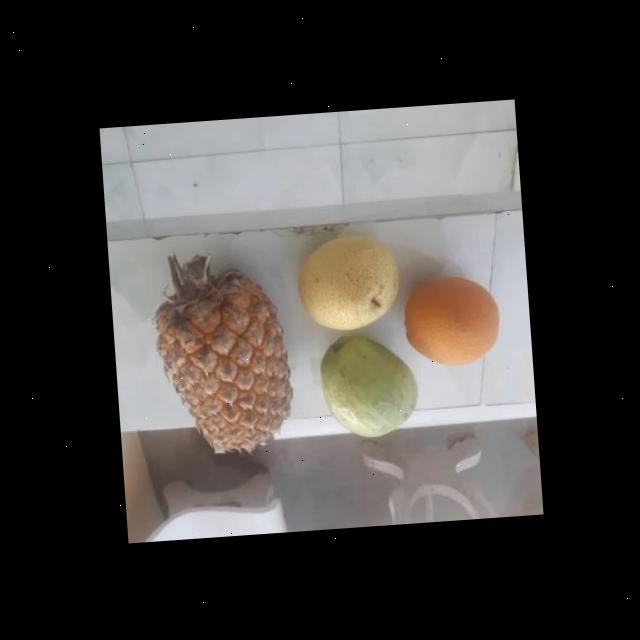guava: (314, 332, 417, 438)
orange: (398, 274, 502, 368)
pear: (286, 226, 401, 332)
pineapple: (147, 254, 290, 450)
